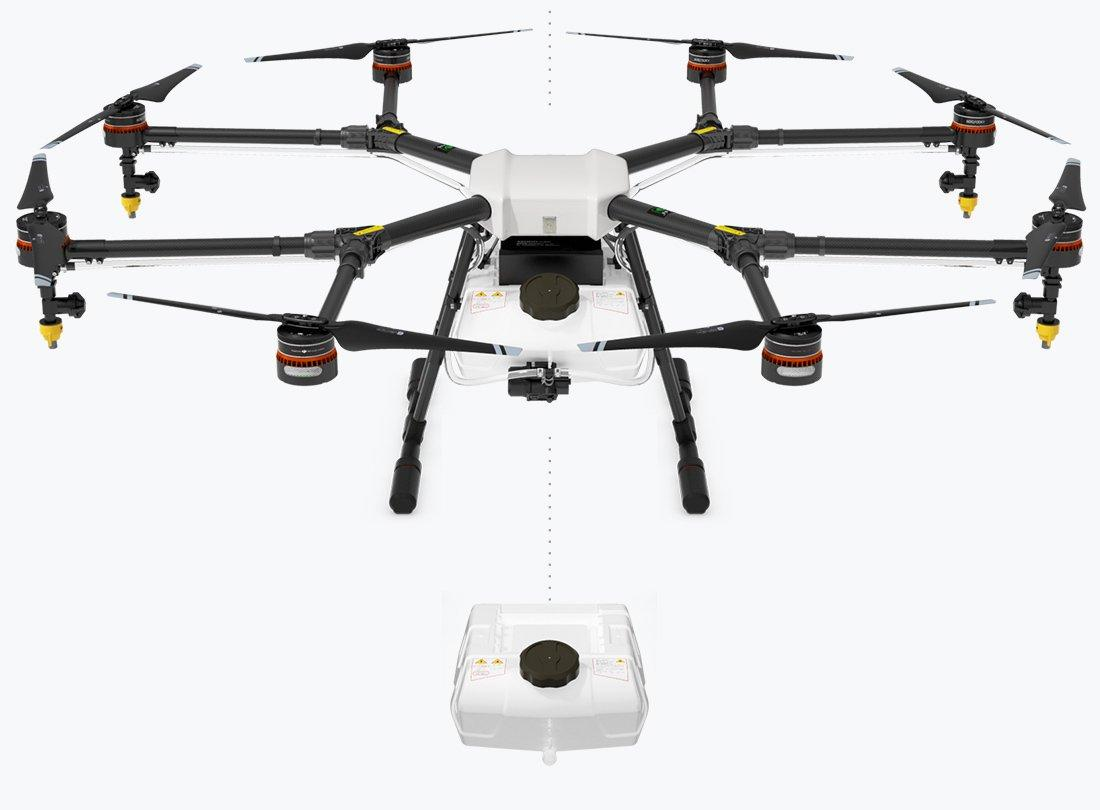drone: (4, 7, 1100, 435)
